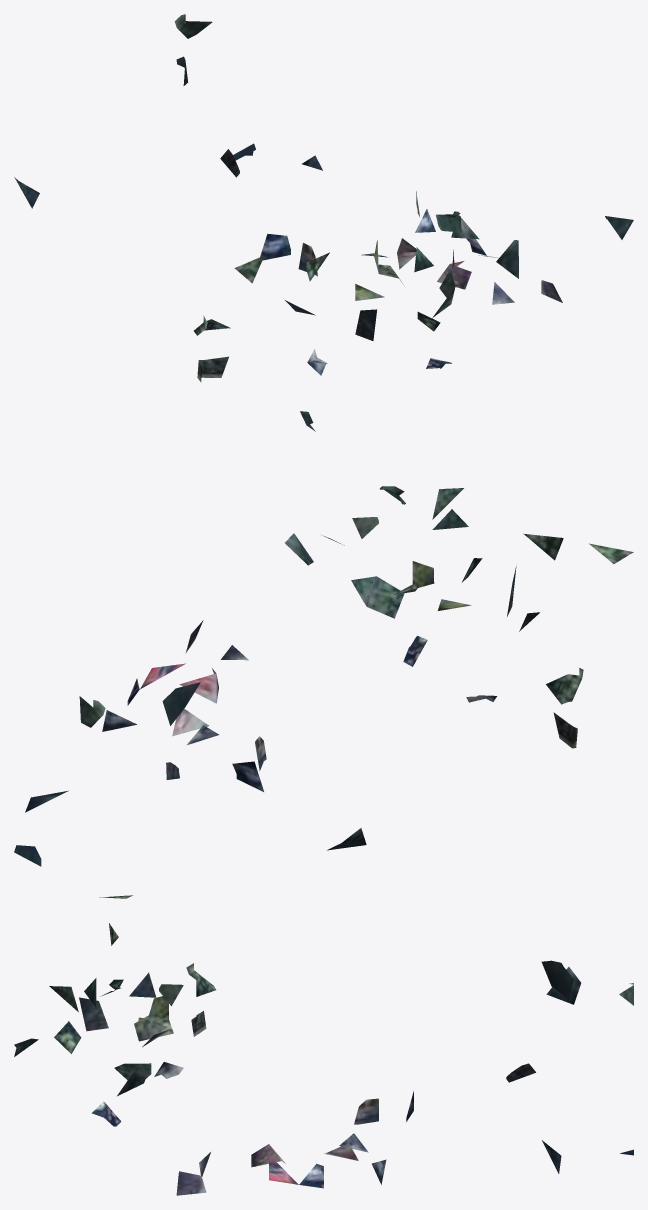
3 renders of one model, top to bottom at view 1: azimuth 30°, elevation 25°; view 2: azimuth 150°, elevation 25°; view 3: azimuth 270°, elevation 25°, orthographic. The views are drawn at different scales.
Parts seen in each view (by area): view 1: 30436272704370414501_1; view 2: 30436272704370414501_1; view 3: 30436272704370414501_1.
Part boxes in pixels (x1=…): 30436272704370414501_1: x1=14, y1=14, x2=633, y2=382; 30436272704370414501_1: x1=14, y1=411, x2=633, y2=866; 30436272704370414501_1: x1=14, y1=895, x2=633, y2=1195.
Size of the model in its own units: 24.4 by 10.63 by 38.25.
Materials: 1 (1 with a texture image).
